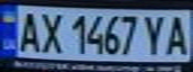1: (66, 11, 87, 54)
4: (84, 11, 106, 55)
6: (103, 12, 124, 56)
7: (118, 11, 142, 55)
A: (12, 8, 42, 53), (163, 11, 193, 56)
X: (36, 9, 66, 54)
Y: (139, 11, 169, 56)
